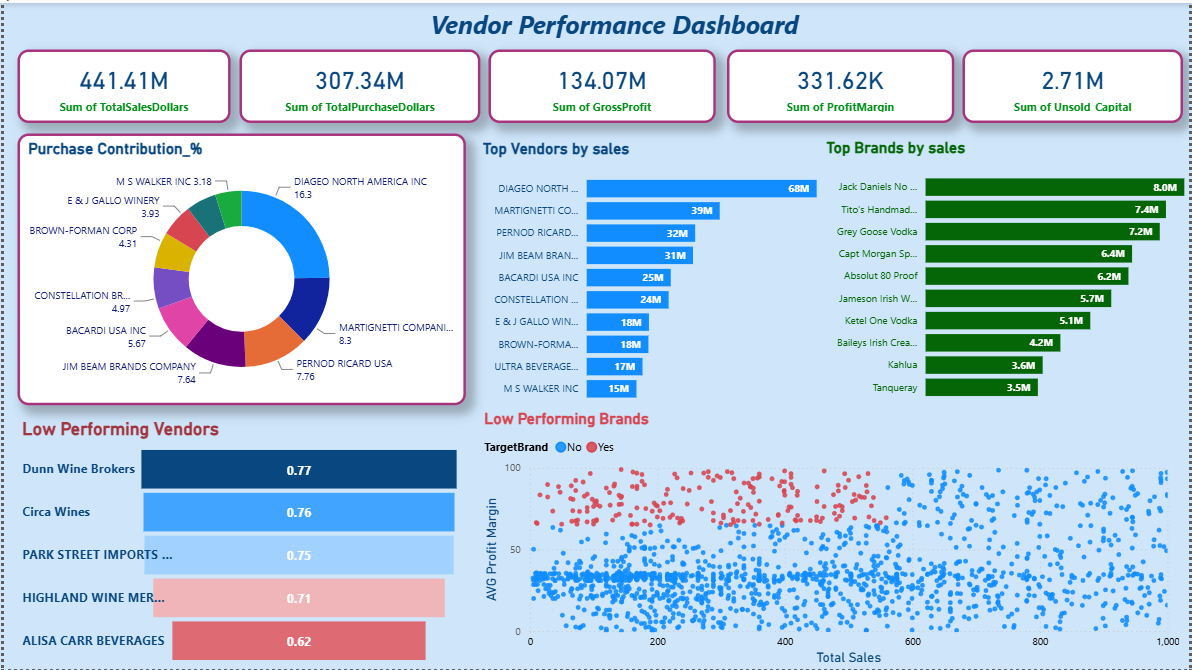

The dashboard page shown, as its layout file describes it:
{"tool":"powerbi","page":{"name":"Page 1","canvas":[1280,720],"ordinal":0},"visuals":[{"type":"card","title":"Total Sales ($)","fields":{"Values":["Sum(vendor_sales_summary.TotalSalesDollars)"]},"box":[14.9,49.7,230,79.5],"z":0},{"type":"textbox","box":[268.3,0,780.2,53],"z":1000},{"type":"card","title":"Total Sales ($)","fields":{"Values":["Sum(vendor_sales_summary.TotalPurchaseDollars)"]},"box":[253.4,49.7,260,79.5],"z":2000},{"type":"card","title":"Total Sales ($)","fields":{"Values":["Sum(vendor_sales_summary.GrossProfit)"]},"box":[523.4,49.7,245,79.5],"z":3000},{"type":"card","title":"Total Sales ($)","fields":{"Values":["Sum(vendor_sales_summary.ProfitMargin)"]},"box":[780.2,49.7,245,79.5],"z":4000},{"type":"card","title":"Total Sales ($)","fields":{"Values":["Sum(vendor_sales_summary.Unsold_Capital)"]},"box":[1035.3,49.7,238,79.5],"z":5000},{"type":"donutChart","title":"Purchase Contribution_%","fields":{"Category":["Purchase_Contribution.VendorName"],"Y":["Sum(Purchase_Contribution.PurchaseContribution_%)"]},"box":[14.9,140.8,483.7,293.2],"z":6000},{"type":"clusteredBarChart","title":"Top Vendors by sales","fields":{"Category":["vendor_sales_summary.VendorName"],"Y":["Sum(vendor_sales_summary.TotalSalesDollars)"]},"box":[511.9,147.4,414.1,293.2],"z":7000},{"type":"clusteredBarChart","title":"Top Brands by sales","fields":{"Category":["vendor_sales_summary.Description"],"Y":["Sum(vendor_sales_summary.TotalSalesDollars)"]},"box":[882.9,145.8,397.6,293.2],"z":8000},{"type":"funnel","title":"Low Performing Vendors","fields":{"Category":["LowTurnoverVendors.VendorName"],"Y":["Sum(LowTurnoverVendors.AverageStockTurnover)"]},"box":[14.9,448.9,483.7,270],"z":9000},{"type":"scatterChart","title":"Low Performing Brands","fields":{"Category":["Brand_Performance.Description"],"X":["Sum(Brand_Performance.TotalSales)"],"Y":["Sum(Brand_Performance.AvgProfitMargin)"],"Series":["Brand_Performance.TargetBrand"]},"box":[513.5,439,760.3,279.9],"z":10000}]}

Visuals, with their boxes in screenshot pixels (x1, y1, x2, y2), scaled from the page's 1280x720 canvas onto the 1192x670 screenshot:
"Total Sales ($)" card: {"left": 14, "top": 46, "right": 228, "bottom": 120}
textbox: {"left": 250, "top": 0, "right": 976, "bottom": 49}
"Total Sales ($)" card: {"left": 236, "top": 46, "right": 478, "bottom": 120}
"Total Sales ($)" card: {"left": 487, "top": 46, "right": 716, "bottom": 120}
"Total Sales ($)" card: {"left": 727, "top": 46, "right": 955, "bottom": 120}
"Total Sales ($)" card: {"left": 964, "top": 46, "right": 1186, "bottom": 120}
"Purchase Contribution_%" donutChart: {"left": 14, "top": 131, "right": 464, "bottom": 404}
"Top Vendors by sales" clusteredBarChart: {"left": 477, "top": 137, "right": 862, "bottom": 410}
"Top Brands by sales" clusteredBarChart: {"left": 822, "top": 136, "right": 1191, "bottom": 409}
"Low Performing Vendors" funnel: {"left": 14, "top": 418, "right": 464, "bottom": 669}
"Low Performing Brands" scatterChart: {"left": 478, "top": 409, "right": 1186, "bottom": 669}
